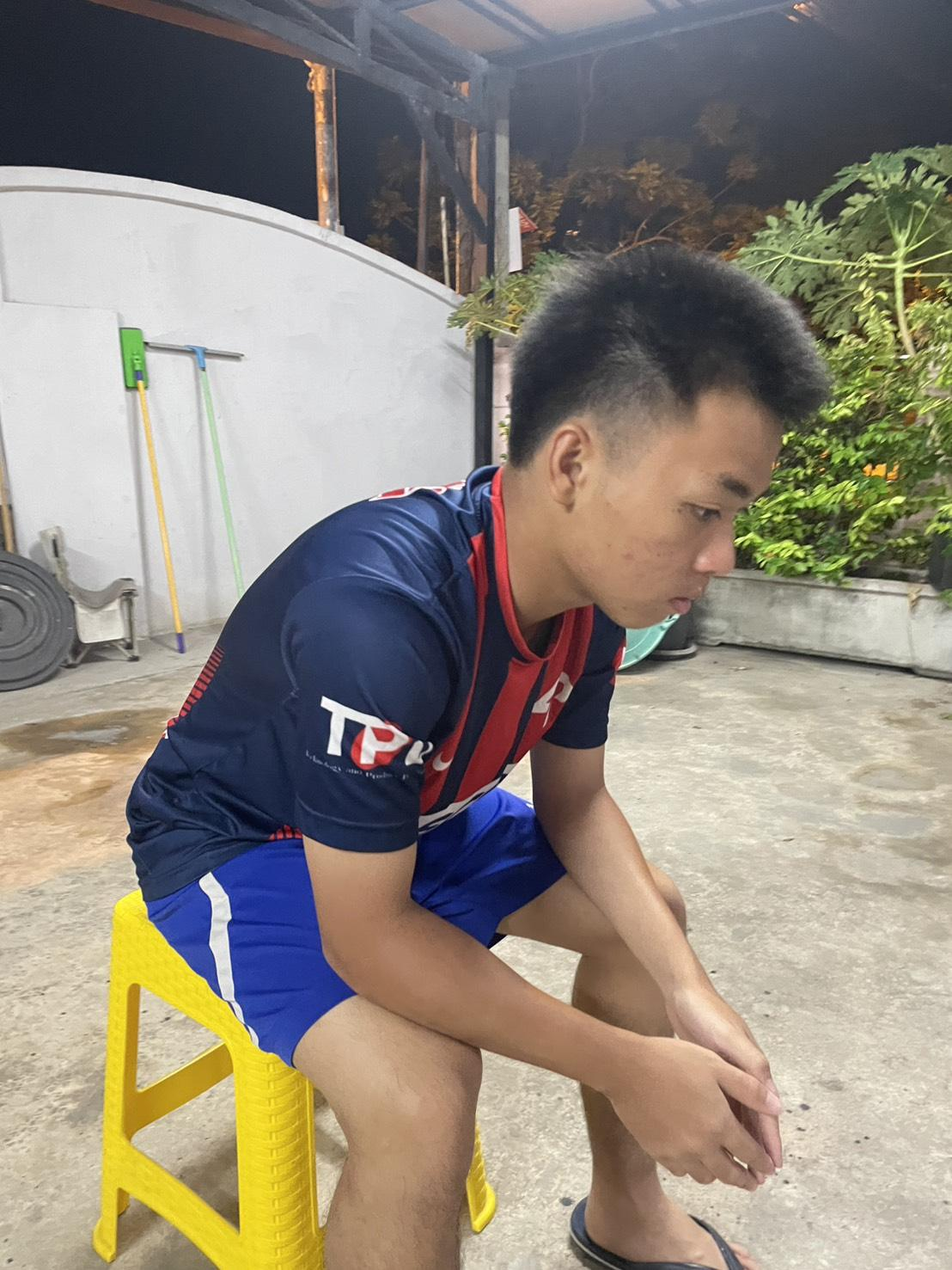BadPosture: (137, 247, 827, 920)
